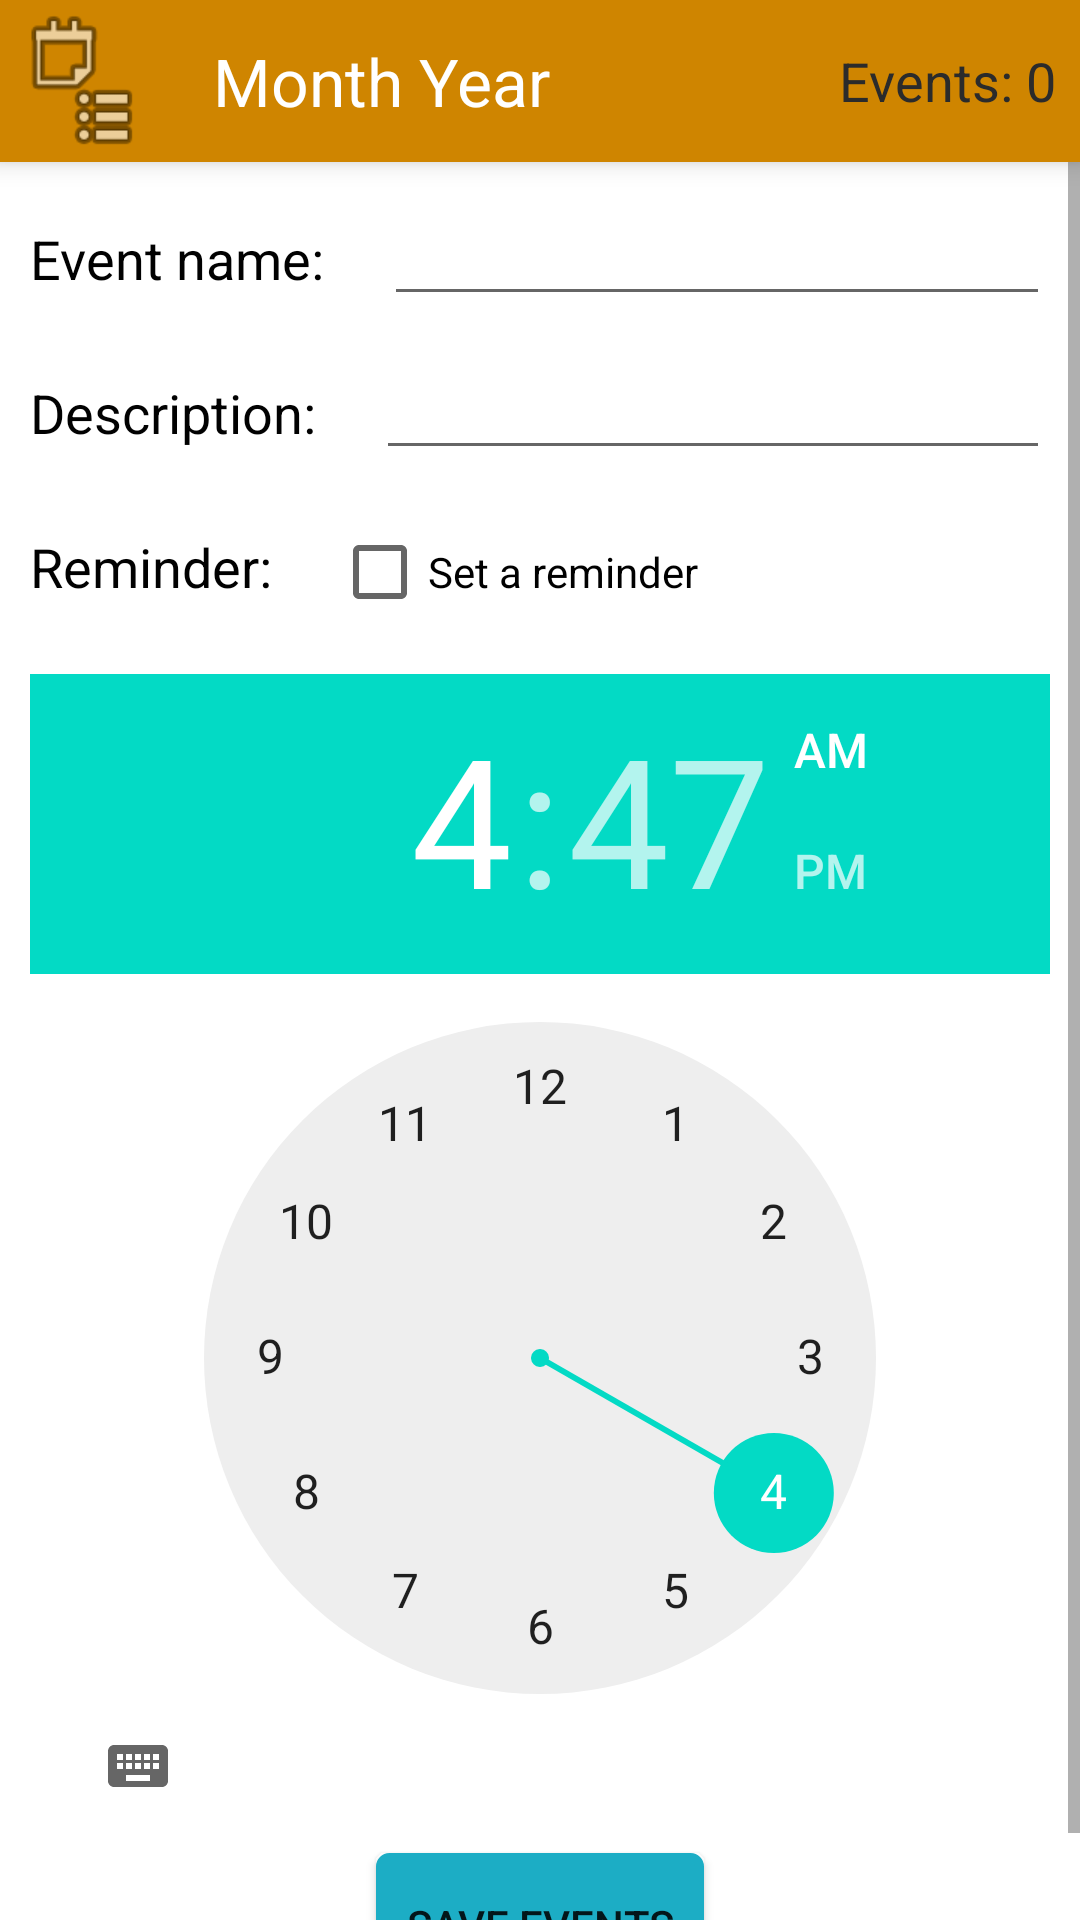

Screen size 1080 x 1920. Icon name, then its box in pixels as (x1, y1, x2, y2):
agenda: (31, 16, 132, 144)
